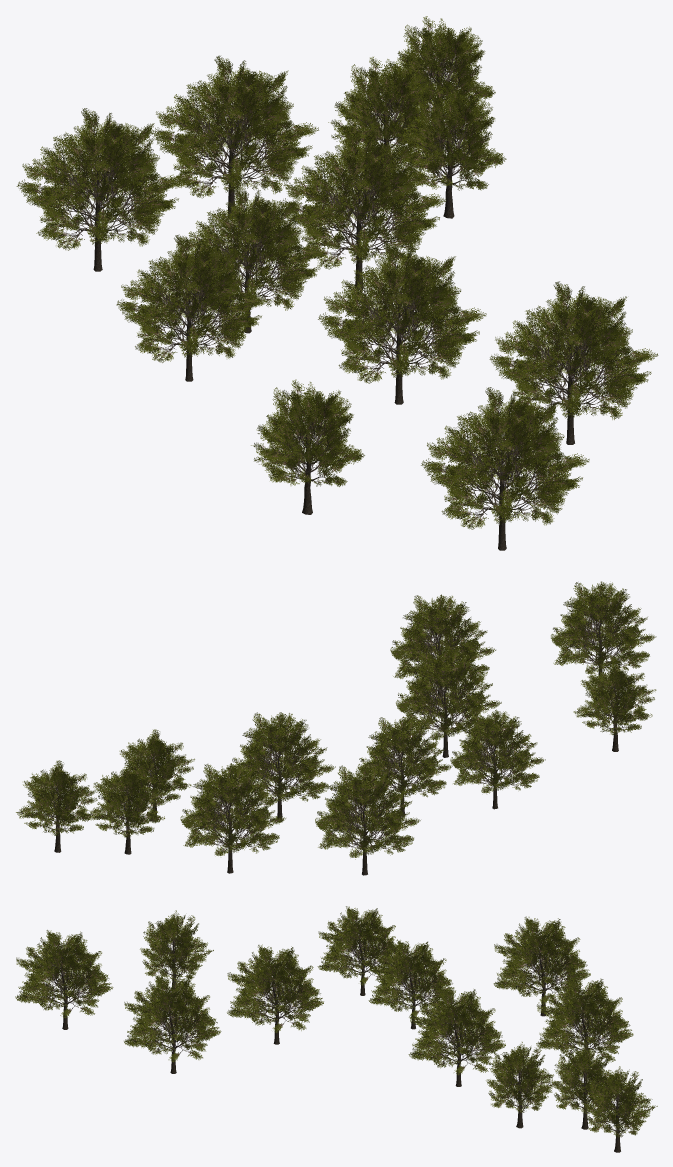
Rendered from Trees.gltf.
The picture shows the model from 3 angles, top to bottom: view 1: azimuth 30°, elevation 25°; view 2: azimuth 150°, elevation 25°; view 3: azimuth 270°, elevation 25°; orthographic projection. The views are drawn at different scales.
Parts seen in each view (by area): view 1: Bark_9_2.016, Bark_9_2.008, Bark_9_2.007, Bark_9_2.014, Bark_9_2.009, Bark_9_2.011, Bark_9_2.006, Bark_9_2.015, Bark_9_2.004, Bark_9_2.013, Bark_9_2, Bark_9_2.003; view 2: Bark_9_2.014, Bark_9_2.016, Bark_9_2.008, Bark_9_2.007, Bark_9_2.011, Bark_9_2.006, Bark_9_2.009, Bark_9_2.015, Bark_9_2.004, Bark_9_2, Bark_9_2.003, Bark_9_2.013; view 3: Bark_9_2.011, Bark_9_2.007, Bark_9_2.009, Bark_9_2.008, Bark_9_2.016, Bark_9_2.014, Bark_9_2.015, Bark_9_2.006, Bark_9_2.013, Bark_9_2.003, Bark_9_2.004, Bark_9_2.
Part boxes in pixels (<box>): Bark_9_2.016: <box>16,108,185,271</box>; Bark_9_2.008: <box>421,387,589,550</box>; Bark_9_2.007: <box>318,241,486,404</box>; Bark_9_2.014: <box>150,55,318,218</box>; Bark_9_2.009: <box>489,281,658,444</box>; Bark_9_2.011: <box>278,126,446,289</box>; Bark_9_2.006: <box>116,234,267,381</box>; Bark_9_2.015: <box>176,186,325,333</box>; Bark_9_2.004: <box>251,379,364,514</box>; Bark_9_2.013: <box>395,83,506,218</box>; Bark_9_2: <box>328,57,431,190</box>; Bark_9_2.003: <box>388,16,495,149</box>; Bark_9_2.014: <box>180,763,285,873</box>; Bark_9_2.016: <box>315,765,420,875</box>; Bark_9_2.008: <box>551,581,656,687</box>; Bark_9_2.007: <box>396,647,501,757</box>; Bark_9_2.011: <box>230,712,335,821</box>; Bark_9_2.006: <box>450,709,545,809</box>; Bark_9_2.009: <box>390,594,495,696</box>; Bark_9_2.015: <box>357,716,452,814</box>; Bark_9_2.004: <box>573,659,656,751</box>; Bark_9_2: <box>86,762,168,854</box>; Bark_9_2.003: <box>16,760,98,852</box>; Bark_9_2.013: <box>119,729,194,821</box>; Bark_9_2.011: <box>408,987,505,1086</box>; Bark_9_2.007: <box>227,944,323,1044</box>; Bark_9_2.009: <box>124,974,221,1073</box>; Bark_9_2.008: <box>15,930,113,1029</box>; Bark_9_2.016: <box>493,916,590,1016</box>; Bark_9_2.014: <box>536,976,633,1062</box>; Bark_9_2.015: <box>368,939,455,1029</box>; Bark_9_2.006: <box>317,906,398,995</box>; Bark_9_2.013: <box>486,1042,559,1128</box>; Bark_9_2.003: <box>584,1066,657,1152</box>; Bark_9_2.004: <box>140,910,213,991</box>; Bark_9_2: <box>551,1043,614,1129</box>.
Bounding box in the file's own units: 300 × 86.86 × 449.
36 materials, 36 textured.
